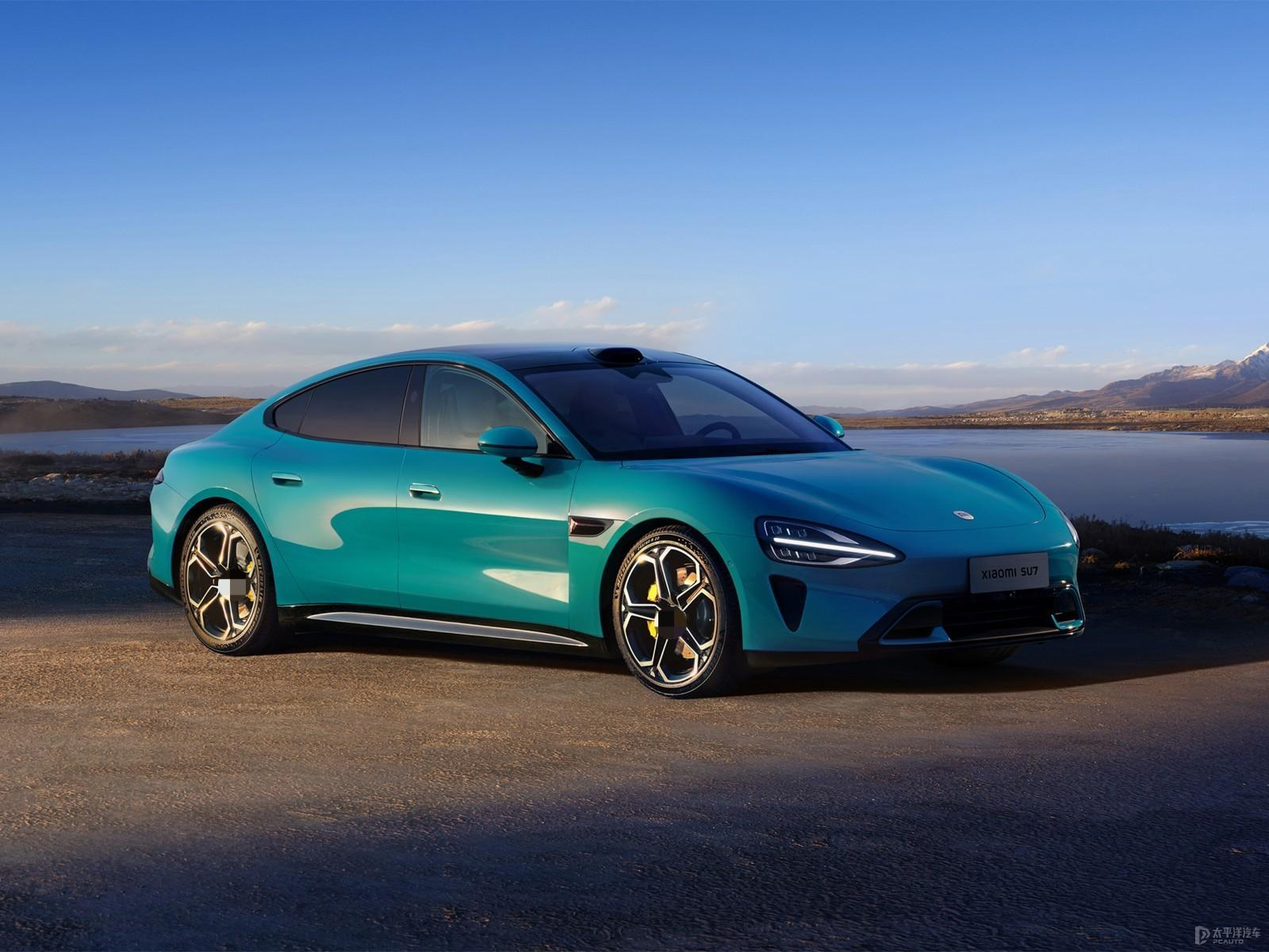XIAOMI: (953, 511, 973, 520)
